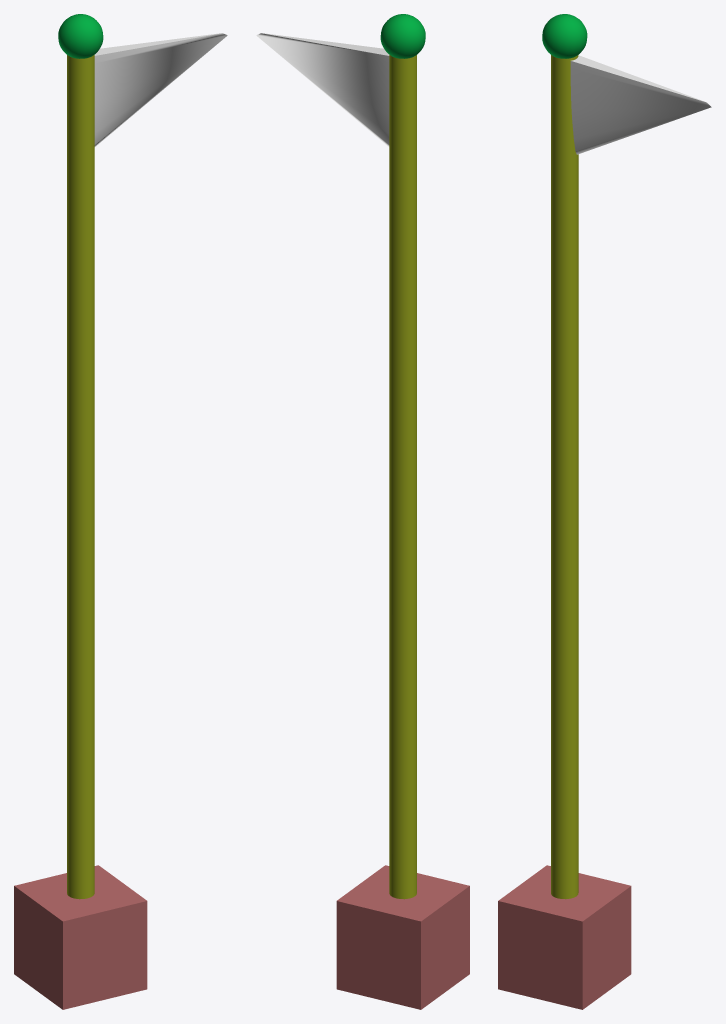
3 renders of one model, left to right at view 1: azimuth 30°, elevation 25°; view 2: azimuth 150°, elevation 25°; view 3: azimuth 330°, elevation 25°, orthographic.
Visible parts, largest first — view 1: pCylinder2; view 2: pCylinder2; view 3: pCylinder2.
Boxes of the visible parts, <box> form: pCylinder2: <box>14,14,227,1009</box>; pCylinder2: <box>256,14,469,1009</box>; pCylinder2: <box>498,14,711,1009</box>.
Size of the model in its own units: 224 by 1092 by 100.
